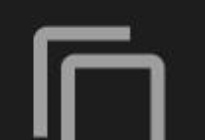ImgButton: (1, 1, 204, 139)
